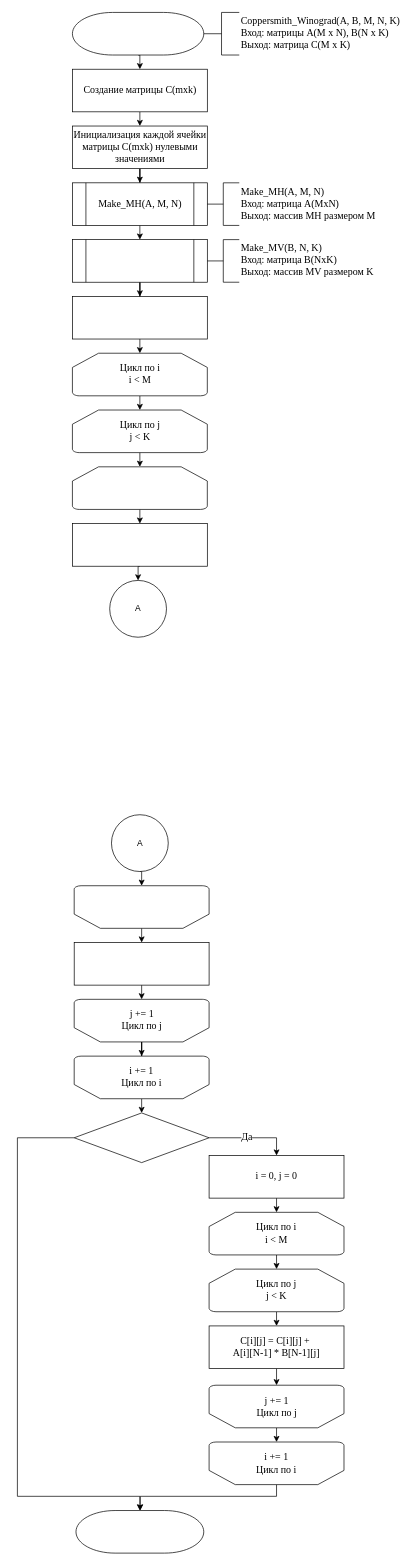
This 412x1566 diagram has some shape labels left out. Each missing label, with the box of its shape:
C[i][j] = C[i][j] + (A[i][k*2] + B[i][k*2+1]) * (A[i][k*2+1] + B[i][k*2]): (72, 523, 207, 566)
C[i][j] = C[i][j] - MH[i] - MV[j]: (73, 942, 209, 985)
i = 0, j = 0, k = 0: (72, 296, 207, 339)
k += 1 Цикл по k: (73, 885, 209, 928)
K - нечетное?: (73, 1112, 209, 1163)
Make_MV(B, N, K): (72, 239, 207, 282)
Конец: (75, 1510, 204, 1553)
Начало: (72, 12, 204, 55)
Цикл по k k < N / 2: (72, 466, 207, 509)
